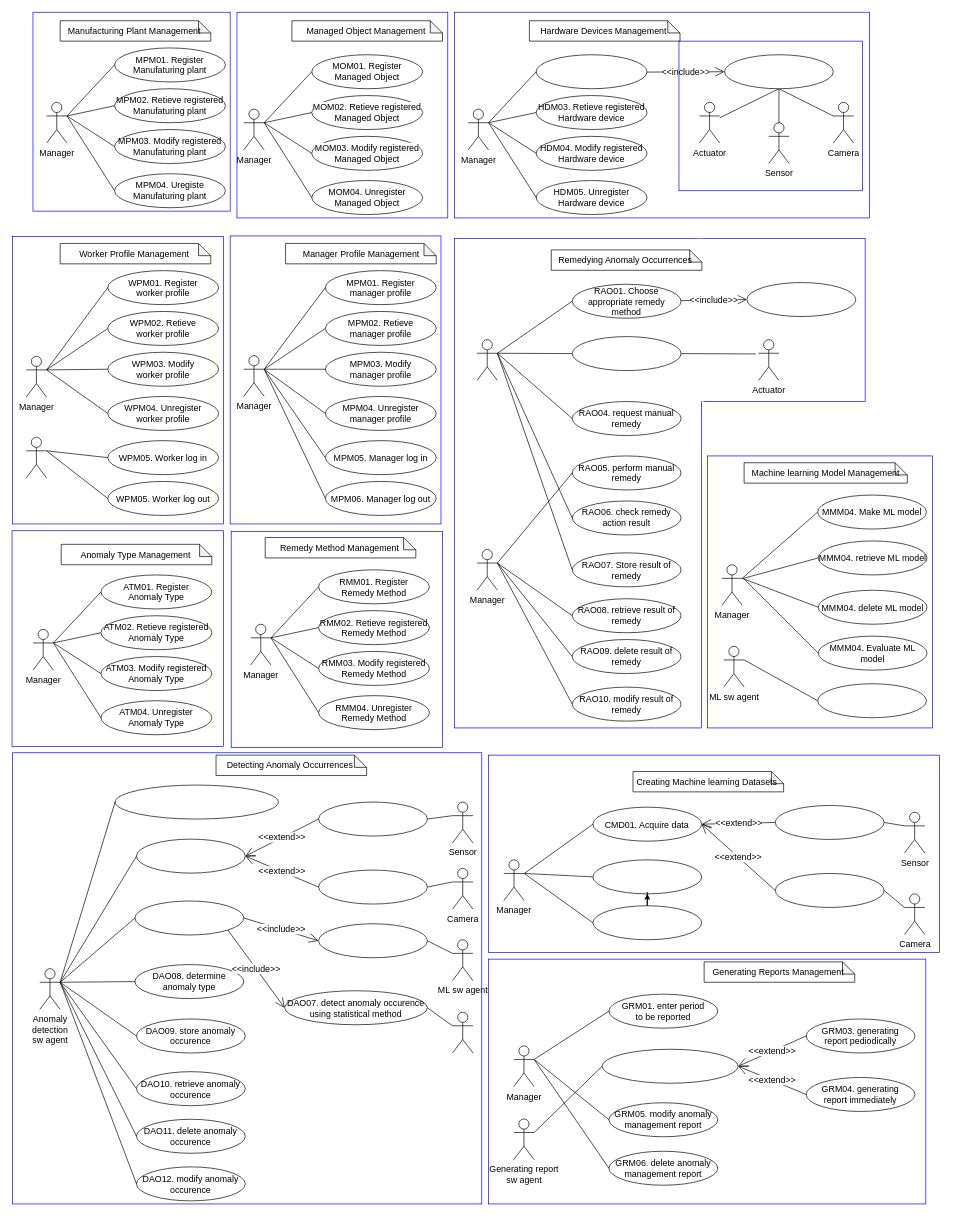
This 970x1218 diagram has some shape labels left out. The shapes that lost their labels are listed below. From the top down, each one's centre as x and y in pixels, then its label:
At point (591, 71): "HDM01. Register Hardware device".
At point (778, 71): "HDM02. Check Hardware device compatibility".
At point (801, 299): "RAO02. Check type of aomaly occurence".
At point (486, 359): "Anomaly remedy sw agent".
At point (626, 353): "RAO03. Apply selected remedy method".
At point (36, 457): "Worker".
At point (872, 700): "MMM04. Train ML model".
At point (196, 801): "DAO01. Check Hardware devices connectivity and registered data".
At point (372, 818): "DAO03. Acquire Sensor data".
At point (829, 822): "CMD02. Acquire Sensor data".
At point (190, 855): "DAO02. Acquire data".
At point (372, 886): "DAO04. Acquire Camera data".
At point (647, 876): "CMD04. Detect anomaly occurence manually".
At point (829, 890): "CMD03. Acquire Camera data".
At point (189, 917): "DAO05. detect anomaly occurence".
At point (647, 922): "CMD05. Make datasets for training".
At point (372, 940): "DAO06. detect anomaly occurence using ml".
At point (462, 1032): "Statistical analysis sw agent".
At point (669, 1066): "GRM02. generating anomaly management report".
